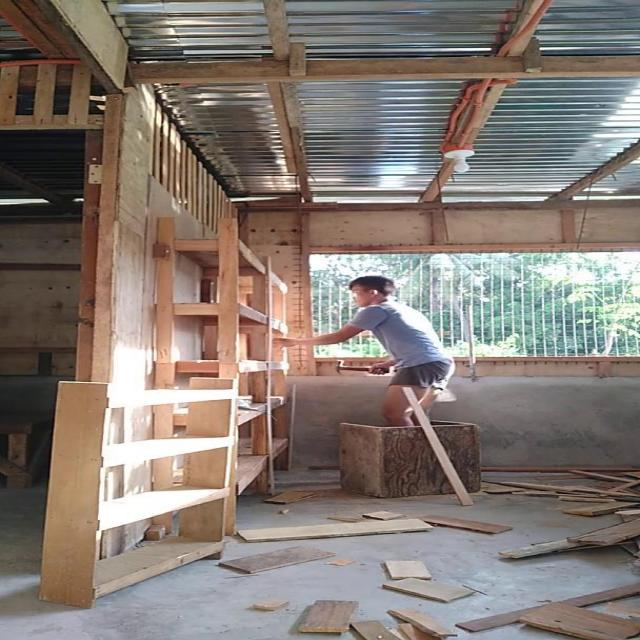hammer: (334, 360, 388, 375)
